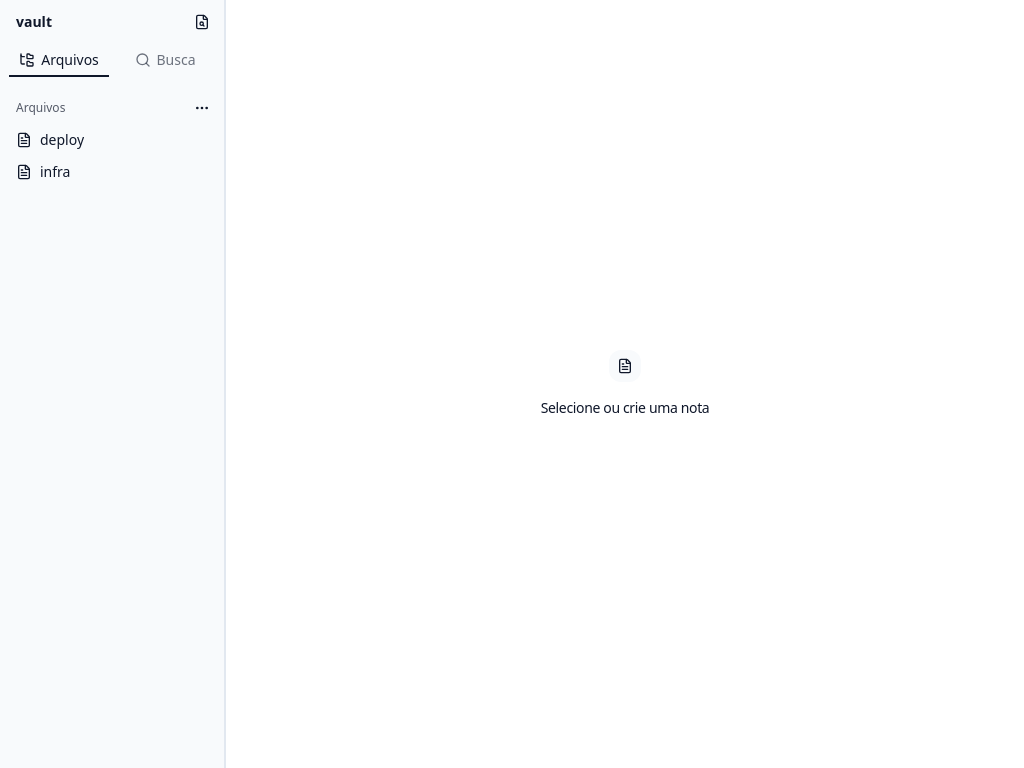
it: busca completa no workspace › abas Arquivos e Busca, com o atalho no tooltip
expect the navigation bar named "Arquivos do vault" is shown: met, box [8,124,216,188]
Hover over the tab "Busca": (165, 60) [114,48,216,72]
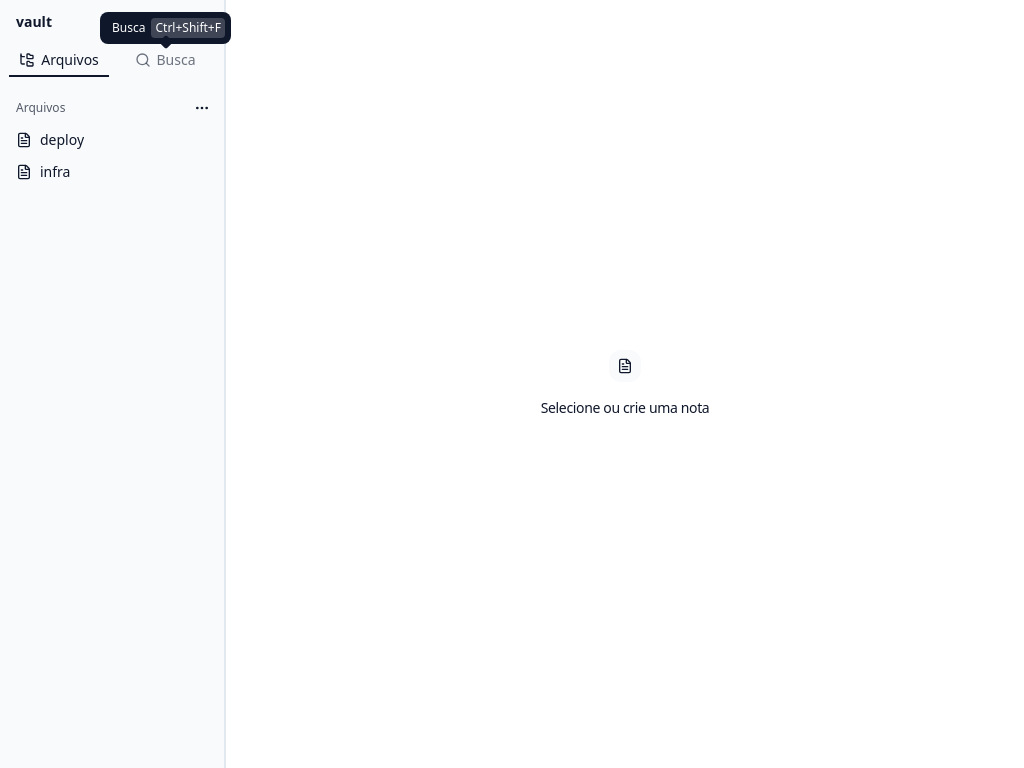
expect the text "Ctrl+Shift+F" is shown: met, box [152,18,225,38]
Click the tab "Busca": (165, 60) [114,48,216,72]
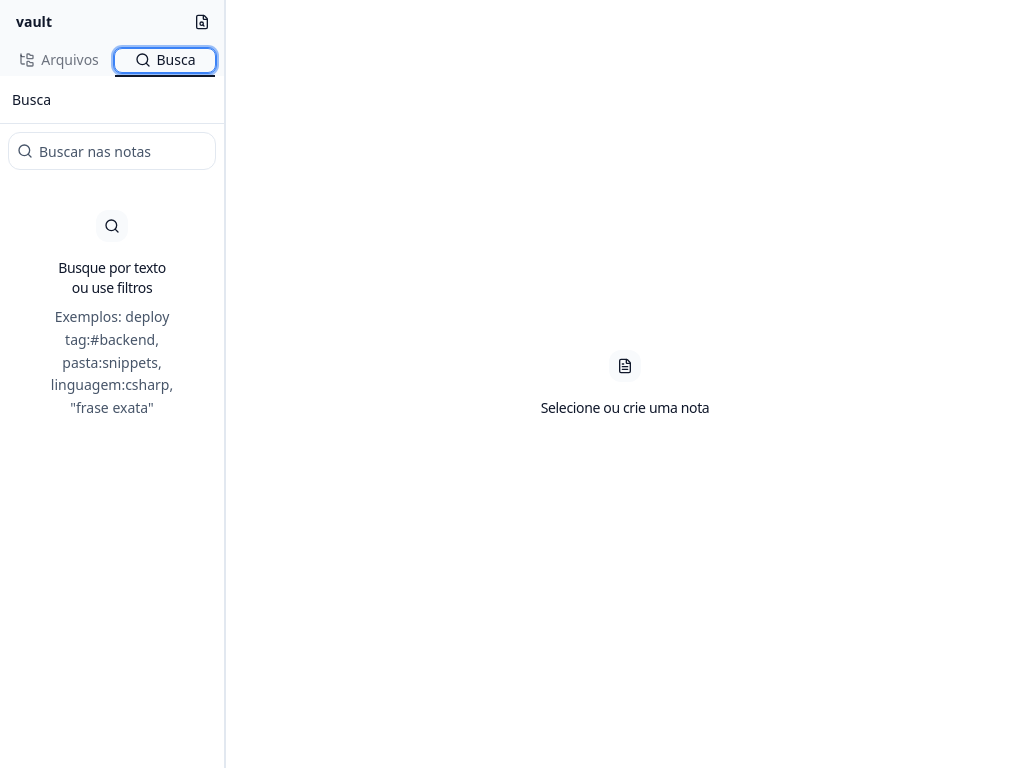
expect the dropdown labelled "Buscar nas notas" is shown: met, box [33,132,207,170]
